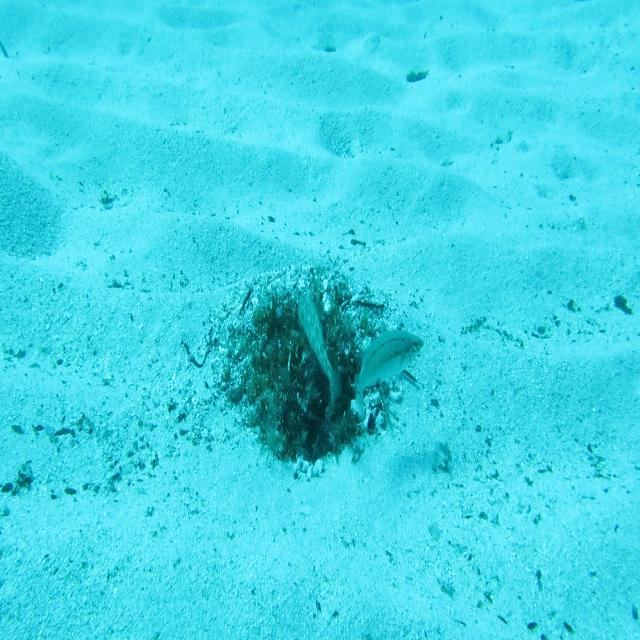NIP_CORE: (294, 285, 346, 410)
core_nest: (280, 314, 324, 360)
female: (352, 326, 426, 422)
nest: (190, 242, 406, 496)
vegetation: (404, 65, 429, 87)
